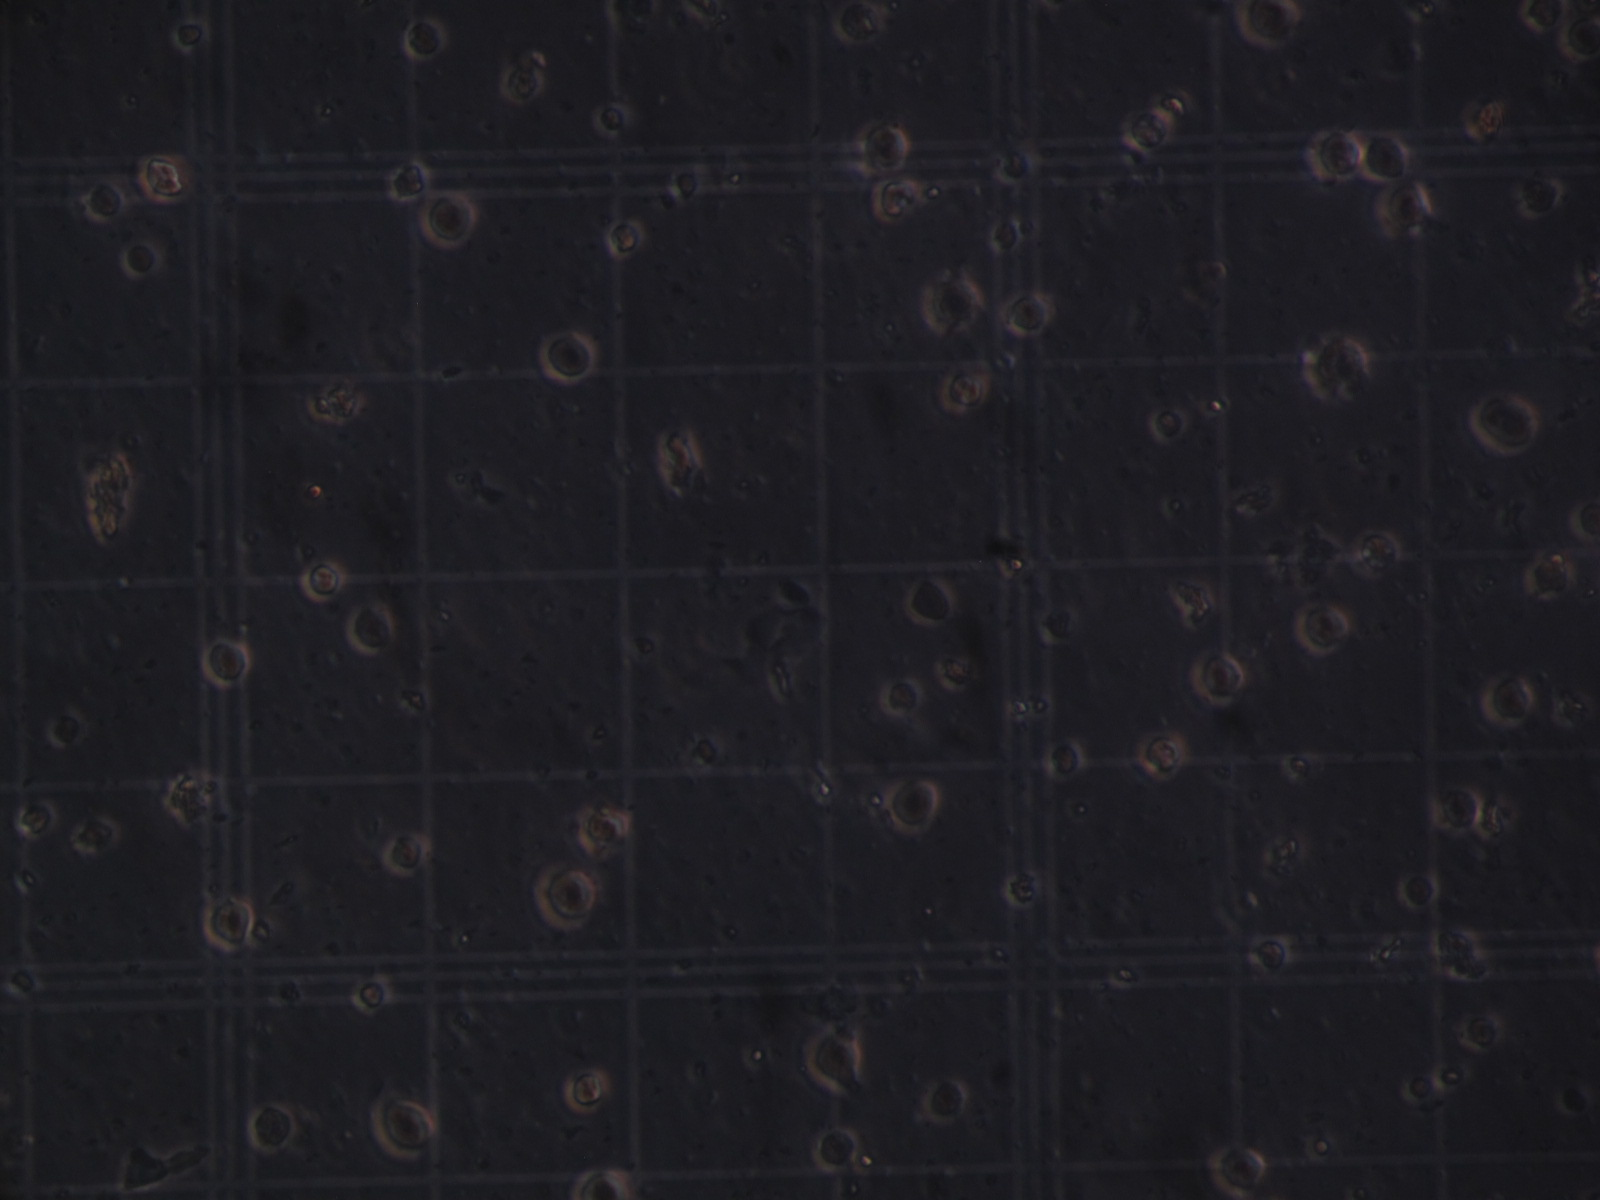hemo: (1301, 333, 1371, 407), (370, 1092, 435, 1161), (533, 861, 596, 932), (1471, 393, 1540, 454), (1233, 1, 1303, 49), (927, 276, 981, 334), (1191, 650, 1243, 708), (1208, 1145, 1266, 1197), (540, 329, 596, 383), (420, 190, 474, 246), (1305, 129, 1362, 182), (1380, 180, 1432, 236), (808, 1030, 860, 1085), (345, 597, 394, 657), (1483, 674, 1537, 727), (1295, 603, 1349, 655), (887, 776, 939, 832), (906, 575, 956, 629), (574, 807, 630, 855), (139, 153, 191, 202), (1138, 731, 1186, 784), (207, 897, 254, 950), (860, 126, 908, 176), (81, 175, 129, 224), (202, 640, 252, 687), (379, 829, 431, 875), (1435, 785, 1482, 834), (1363, 131, 1409, 182), (1517, 174, 1562, 223), (833, 1, 883, 45), (1528, 553, 1574, 601), (249, 1105, 297, 1151), (1004, 294, 1053, 338), (564, 1066, 610, 1113), (299, 558, 346, 603), (569, 1167, 634, 1200), (1558, 13, 1600, 63), (922, 1079, 968, 1124), (1128, 108, 1174, 153), (814, 1127, 859, 1171), (384, 158, 430, 202), (1356, 533, 1402, 576), (71, 813, 121, 852), (404, 16, 449, 61), (348, 973, 394, 1015), (873, 176, 916, 221), (882, 672, 922, 718), (49, 707, 88, 751), (946, 371, 988, 411), (1461, 1013, 1504, 1053), (501, 64, 544, 103), (324, 384, 368, 422), (123, 239, 164, 280), (1044, 737, 1083, 779), (593, 100, 632, 141), (998, 146, 1041, 183), (606, 217, 645, 256), (1249, 938, 1289, 976), (1401, 872, 1441, 909), (173, 16, 212, 53), (1435, 925, 1478, 958), (990, 216, 1023, 257), (1151, 406, 1187, 442), (1446, 954, 1490, 983), (1005, 871, 1038, 908), (670, 168, 702, 205)
